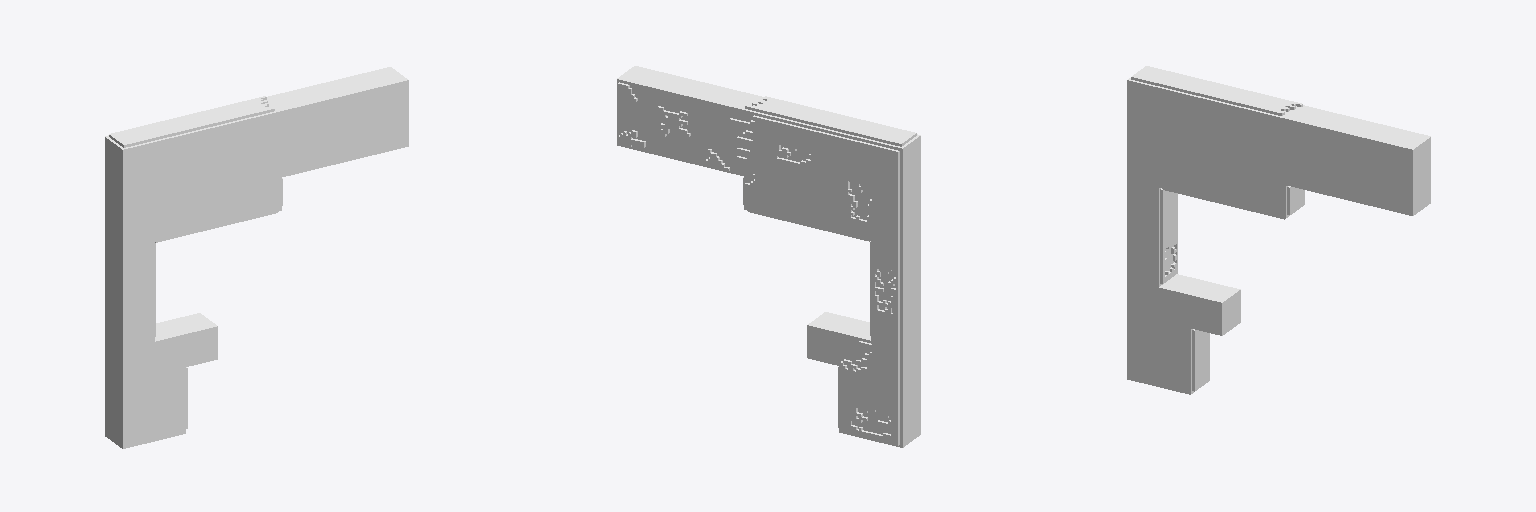
Rendered from enhautadroite.obj.
3 renders of one model, left to right at view 1: azimuth 30°, elevation 25°; view 2: azimuth 150°, elevation 25°; view 3: azimuth 330°, elevation 25°, orthographic.
Bounding box in the file's own units: 108 × 109 × 13.